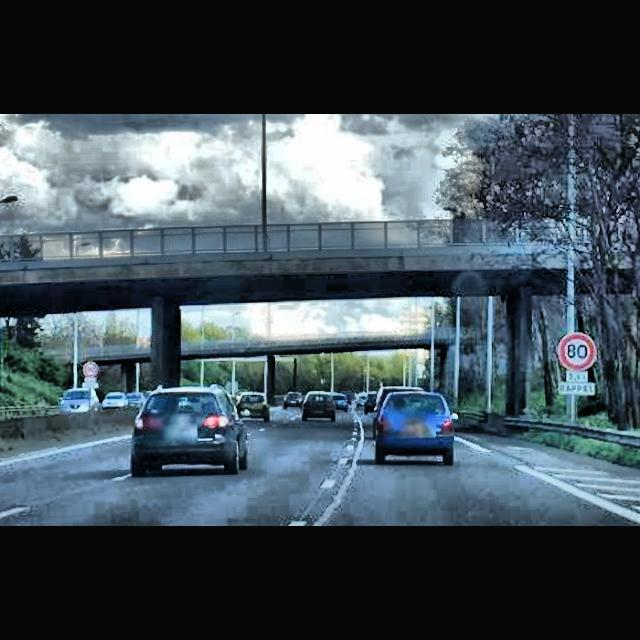speed_80: (559, 334, 595, 371)
